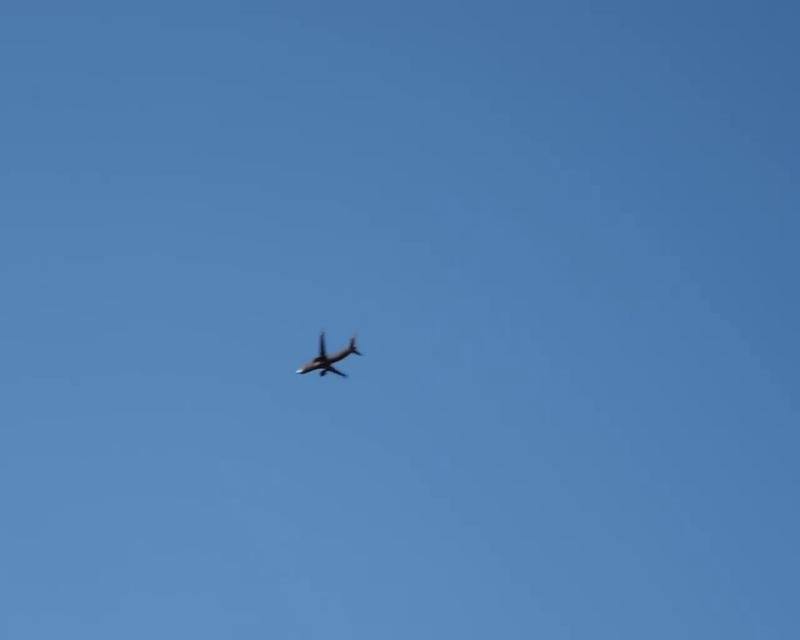UAV: (294, 331, 366, 380)
